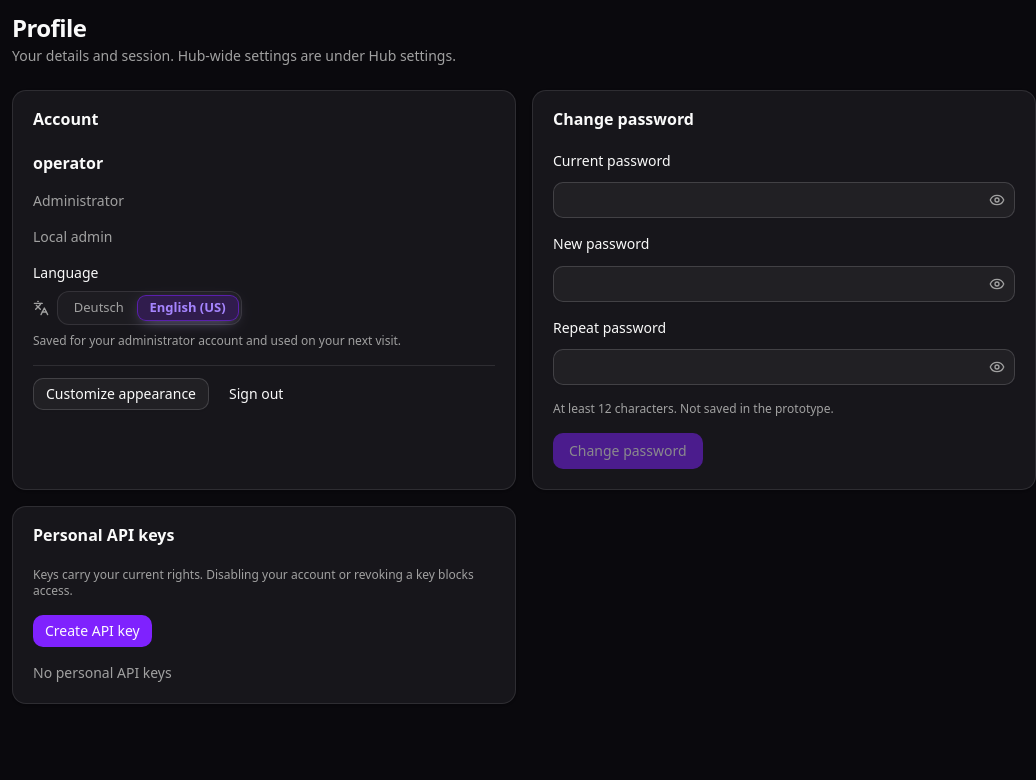
Test: keeps the profile mounted and resumes activity/change delivery after a password gesture
Expected: the heading "Profile" is shown, 12,11 -> 86,44
Type "Example-password1!" into the password field labelled "Current password" at (770, 200), box 554,182 -> 985,218
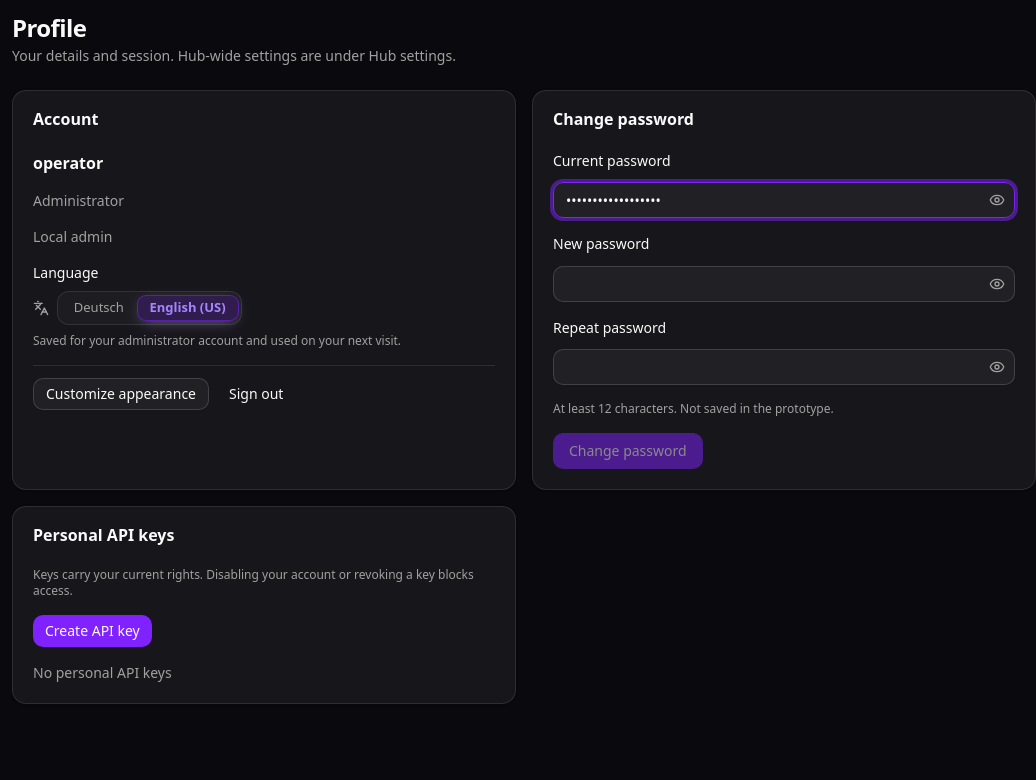
Type "New-example-password2!" into the password field labelled "New password" at (770, 284), box 554,266 -> 985,302
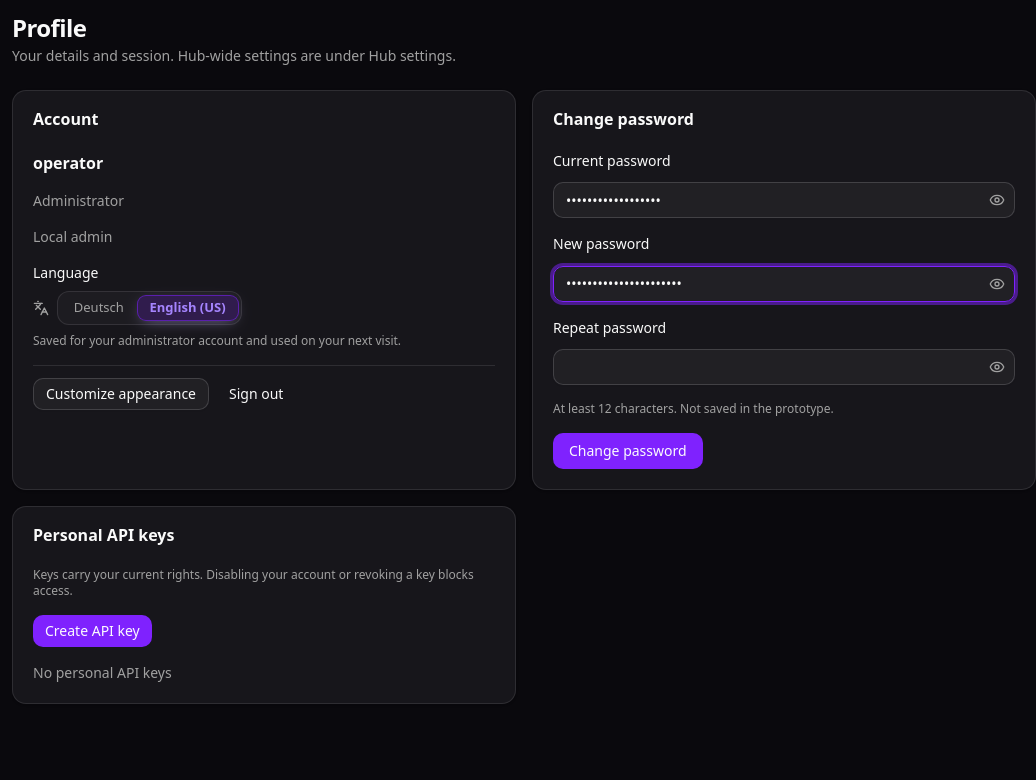
Type "New-example-password2!" into the password field labelled "Repeat password" at (770, 367), box 554,349 -> 985,385
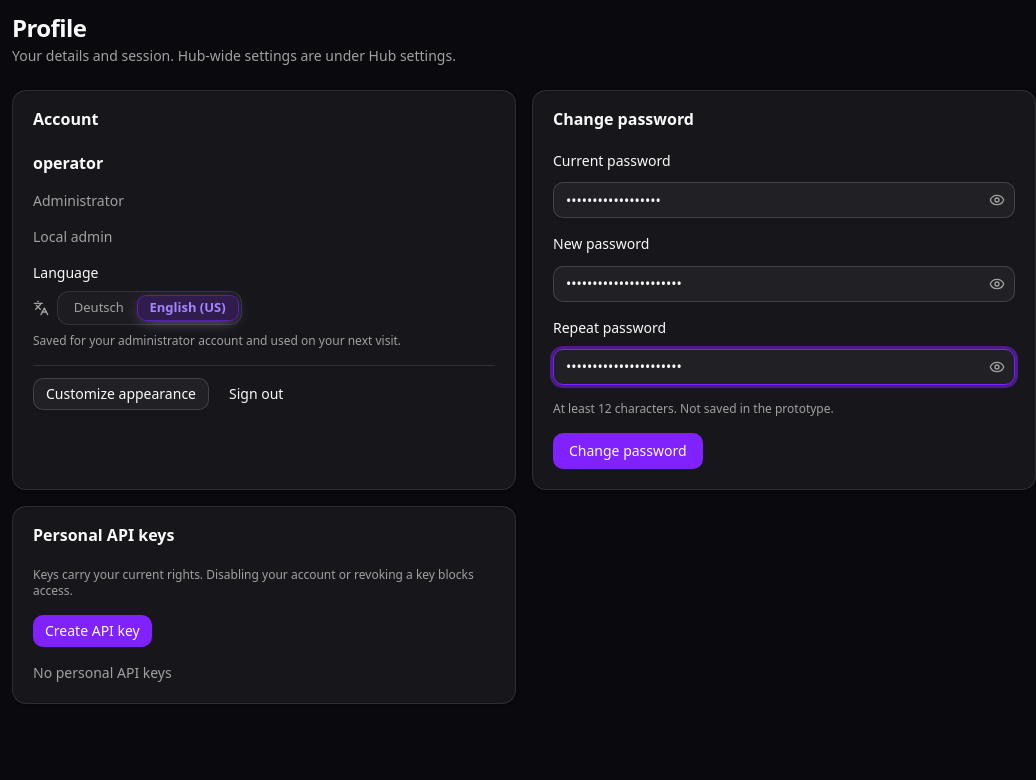
Click the button "Change password" at (628, 451), box 553,433 -> 703,469
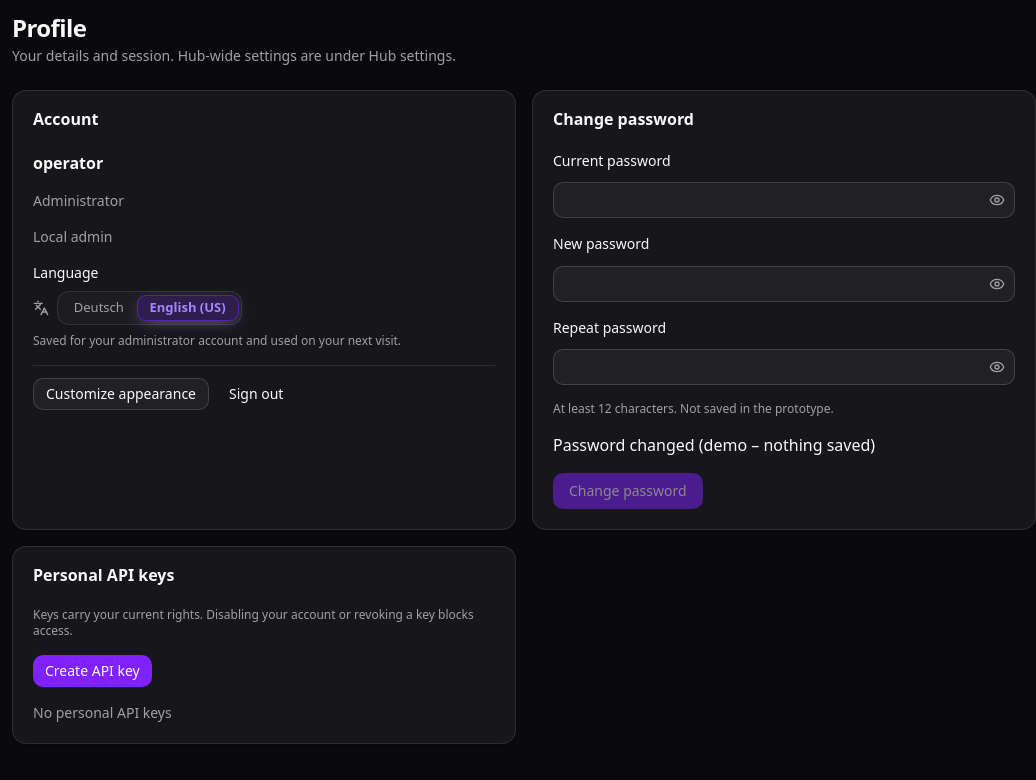
Expected: the message "Password changed (demo – nothing saved)" is shown, 553,434 -> 875,456
